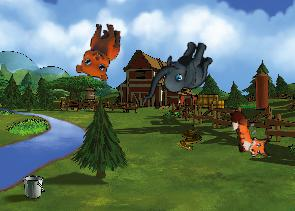bear: (74, 19, 122, 82)
elephant: (143, 31, 216, 113)
fox: (228, 105, 273, 163)
